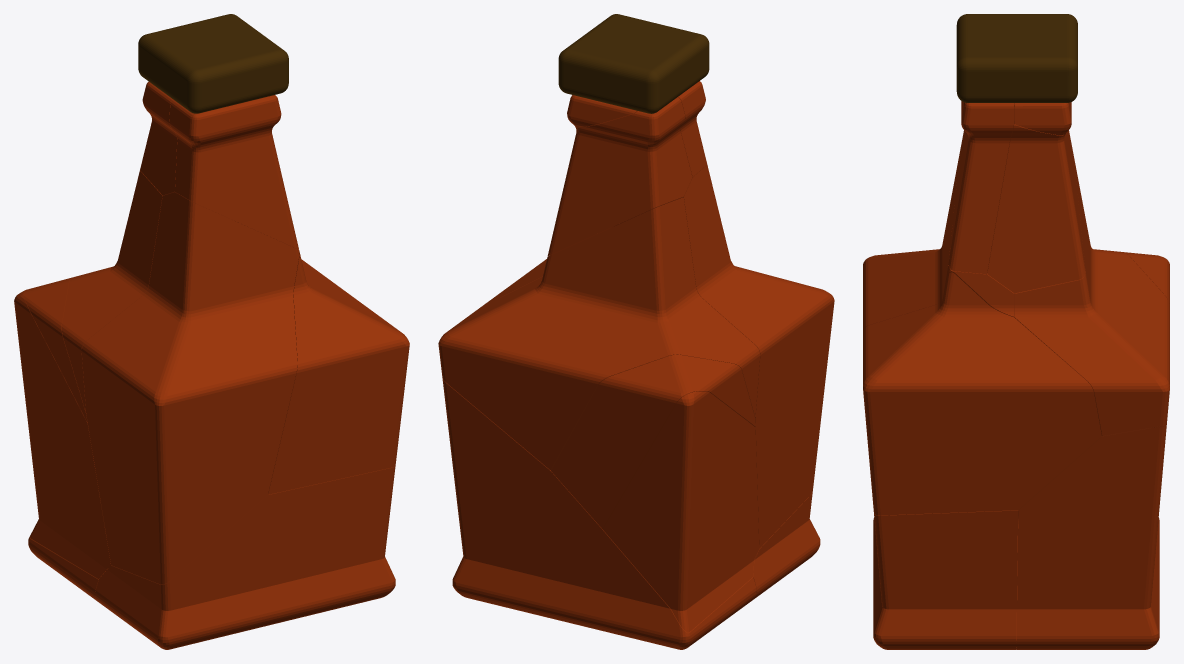
The model's file is Botella_Whisky_Rota.fbx.
3 renders of one model, left to right at view 1: azimuth 30°, elevation 25°; view 2: azimuth 150°, elevation 25°; view 3: azimuth 270°, elevation 25°, orthographic. The views are drawn at different scales.
Visible parts, largest first — view 1: Botella2.Rota_cell.001, Botella2.Rota_cell.003, Botella2.Rota_cell.004, Botella2.Rota_cell.009, Botella2.Rota_cell.002, Tapon2.001, Botella2.Rota_cell.006, Botella2.Rota_cell.008, Botella2.Rota_cell.007, Botella2.Rota_cell.005; view 2: Botella2.Rota_cell.006, Botella2.Rota_cell.005, Botella2.Rota_cell.009, Botella2.Rota_cell.001, Botella2.Rota_cell.007, Botella2.Rota_cell.008, Tapon2.001, Botella2.Rota_cell.003, Botella2.Rota_cell.002, Botella2.Rota_cell, Botella2.Rota_cell.004; view 3: Botella2.Rota_cell.004, Botella2.Rota_cell.005, Botella2.Rota_cell.003, Botella2.Rota_cell.006, Botella2.Rota_cell.008, Tapon2.001, Botella2.Rota_cell.002, Botella2.Rota_cell.001, Botella2.Rota_cell, Botella2.Rota_cell.007.
Part boxes in pixels (box(x1,y1,x2,y2)): Botella2.Rota_cell.001: box(81, 192, 299, 584); Botella2.Rota_cell.003: box(95, 466, 395, 649); Botella2.Rota_cell.004: box(268, 251, 409, 494); Botella2.Rota_cell.009: box(14, 292, 110, 578); Botella2.Rota_cell.002: box(169, 95, 298, 249); Tapon2.001: box(138, 14, 288, 113); Botella2.Rota_cell.006: box(62, 170, 247, 411); Botella2.Rota_cell.008: box(140, 81, 276, 239); Botella2.Rota_cell.007: box(22, 277, 87, 422); Botella2.Rota_cell.005: box(28, 535, 107, 602); Botella2.Rota_cell.006: box(438, 197, 760, 470); Botella2.Rota_cell.005: box(442, 379, 756, 649); Botella2.Rota_cell.009: box(602, 391, 759, 632); Botella2.Rota_cell.001: box(581, 164, 834, 548); Botella2.Rota_cell.007: box(551, 354, 755, 528); Botella2.Rota_cell.008: box(547, 97, 692, 256); Tapon2.001: box(558, 14, 709, 113); Botella2.Rota_cell.003: box(753, 492, 820, 599); Botella2.Rota_cell.002: box(678, 81, 706, 177); Botella2.Rota_cell: box(567, 95, 636, 126); Botella2.Rota_cell.004: box(479, 224, 618, 308); Botella2.Rota_cell.004: box(863, 272, 1101, 515); Botella2.Rota_cell.005: box(1016, 426, 1166, 649); Botella2.Rota_cell.003: box(873, 510, 1018, 649); Botella2.Rota_cell.006: box(1014, 158, 1169, 436); Botella2.Rota_cell.008: box(987, 102, 1085, 293); Tapon2.001: box(956, 14, 1077, 102); Botella2.Rota_cell.002: box(948, 101, 1014, 274); Botella2.Rota_cell.001: box(863, 152, 1014, 330); Botella2.Rota_cell: box(1014, 102, 1071, 135); Botella2.Rota_cell.007: box(1123, 252, 1169, 426).
Size of the model in its own units: 9.7 by 9.7 by 19.53.
